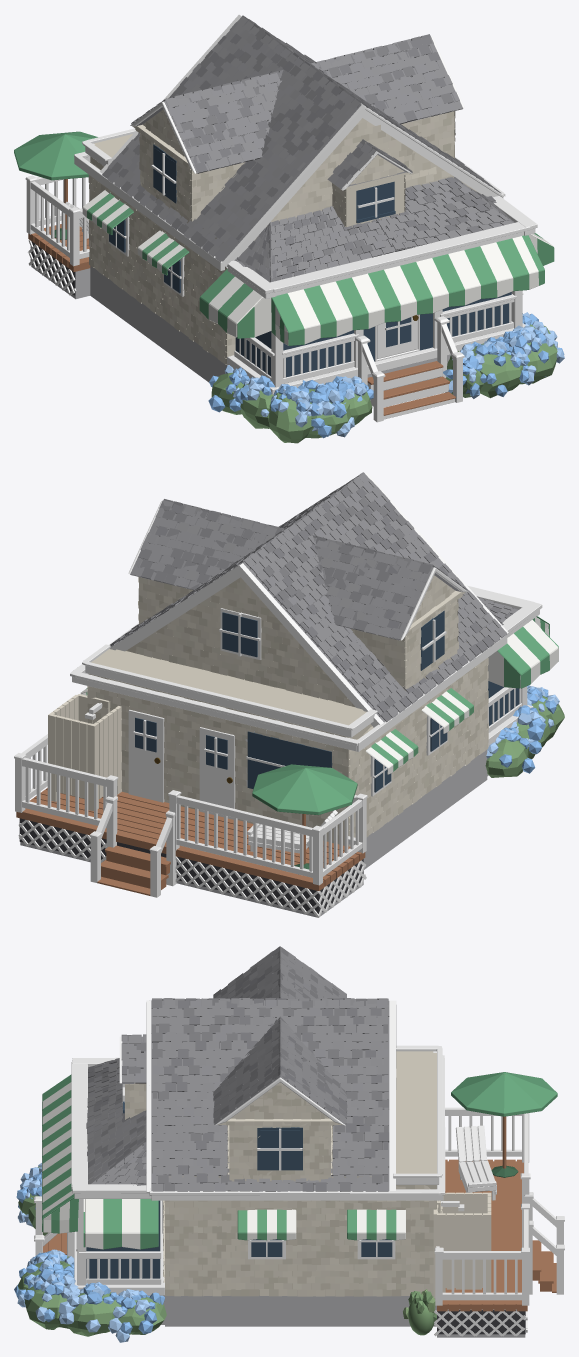
Rendered from house.glb.
3 views of the same model, one above another, from view 1: azimuth 30°, elevation 25°; view 2: azimuth 150°, elevation 25°; view 3: azimuth 270°, elevation 25° (orthographic).
Parts seen in each view (by area): view 1: LP_dormer_roof, LP_atticWin_frame_B, LP_awning_front, LP_dormer_body, LP_ridge_caps, LP_hydrangeas, LP_atticWin_glass_B, LP_body, LP_deck_skirt, Sphere.001, LP_bstep_0, roof ting; view 2: LP_atticWin_frame_B, LP_dormer_roof, LP_dormer_body, LP_body, LP_ridge_caps, LP_bstep_0, LP_atticWin_glass_B, LP_awning_front, LP_shower_wallF, LP_deck_skirt, Sphere.001, LP_hydrangeas (+1 smaller); view 3: LP_dormer_roof, LP_atticWin_frame_B, LP_dormer_body, LP_body, LP_ridge_caps, LP_awning_front, LP_hydrangeas, LP_deck_skirt, LP_bstep_0, LP_shower_wallF, LP_atticWin_glass_B, Sphere.001 (+1 smaller).
Boxes of the visible parts, bbox=[...] form: LP_dormer_roof: bbox=[107, 15, 514, 282]; LP_atticWin_frame_B: bbox=[25, 14, 537, 422]; LP_awning_front: bbox=[82, 190, 554, 345]; LP_dormer_body: bbox=[88, 109, 478, 364]; LP_ridge_caps: bbox=[102, 23, 495, 282]; LP_hydrangeas: bbox=[208, 312, 564, 443]; LP_atticWin_glass_B: bbox=[109, 144, 511, 377]; LP_body: bbox=[89, 111, 480, 364]; LP_deck_skirt: bbox=[31, 264, 450, 400]; Sphere.001: bbox=[14, 131, 97, 180]; LP_bstep_0: bbox=[28, 224, 455, 415]; roof ting: bbox=[245, 182, 504, 279]; LP_atticWin_frame_B: bbox=[14, 472, 542, 917]; LP_dormer_roof: bbox=[110, 472, 518, 722]; LP_dormer_body: bbox=[87, 575, 488, 845]; LP_body: bbox=[87, 577, 488, 846]; LP_ridge_caps: bbox=[110, 472, 519, 722]; LP_bstep_0: bbox=[16, 788, 365, 895]; LP_atticWin_glass_B: bbox=[135, 610, 519, 792]; LP_awning_front: bbox=[80, 616, 558, 774]; LP_shower_wallF: bbox=[48, 694, 121, 811]; LP_deck_skirt: bbox=[20, 750, 488, 917]; Sphere.001: bbox=[252, 764, 357, 815]; LP_hydrangeas: bbox=[485, 685, 564, 777]; LP_dormer_roof: bbox=[86, 946, 389, 1191]; LP_atticWin_frame_B: bbox=[34, 1000, 564, 1336]; LP_dormer_body: bbox=[125, 1082, 442, 1296]; LP_body: bbox=[125, 1051, 441, 1296]; LP_ridge_caps: bbox=[88, 947, 389, 1191]; LP_awning_front: bbox=[42, 1074, 405, 1249]; LP_hydrangeas: bbox=[14, 1163, 436, 1342]; LP_deck_skirt: bbox=[161, 1295, 525, 1337]; LP_bstep_0: bbox=[43, 1159, 556, 1311]; LP_shower_wallF: bbox=[433, 1192, 491, 1298]; LP_atticWin_glass_B: bbox=[86, 1101, 392, 1278]; Sphere.001: bbox=[451, 1072, 557, 1116].
Bounding box in the file's own units: 5.02 × 3.99 × 7.29.
